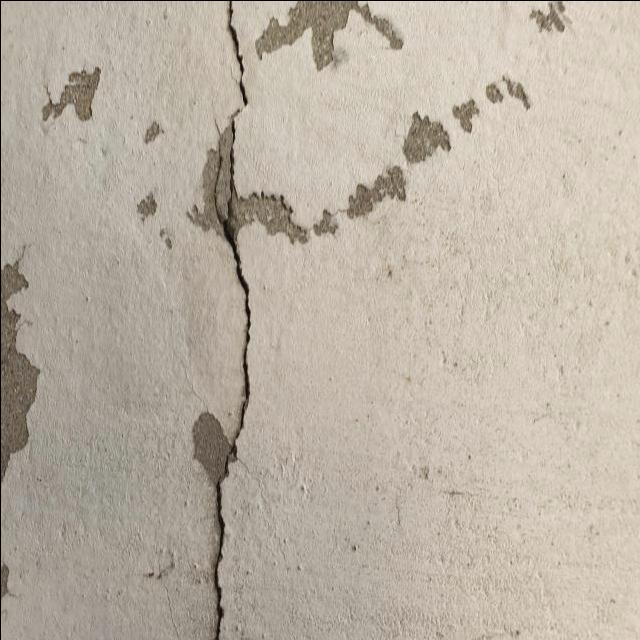SurfaceCrack: (157, 1, 299, 640)
